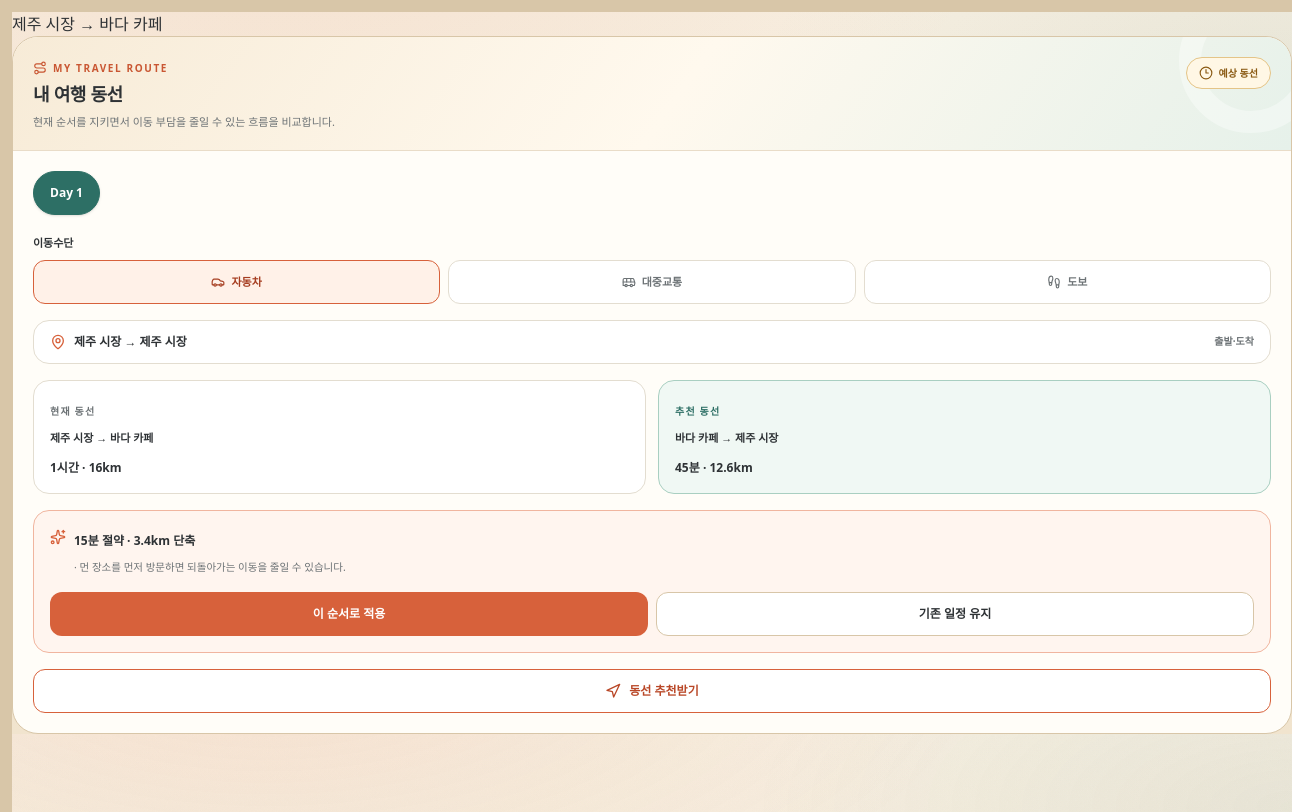
route recommendation and saved plan integration › changes the plan only after approval and can undo it
Expected: the text named "현재 장소 순서" reads "제주 시장 → 바다 카페", [12,13,162,35]
Step 1. Click the button "이 순서로 적용" → (349, 614), box [50,592,648,636]
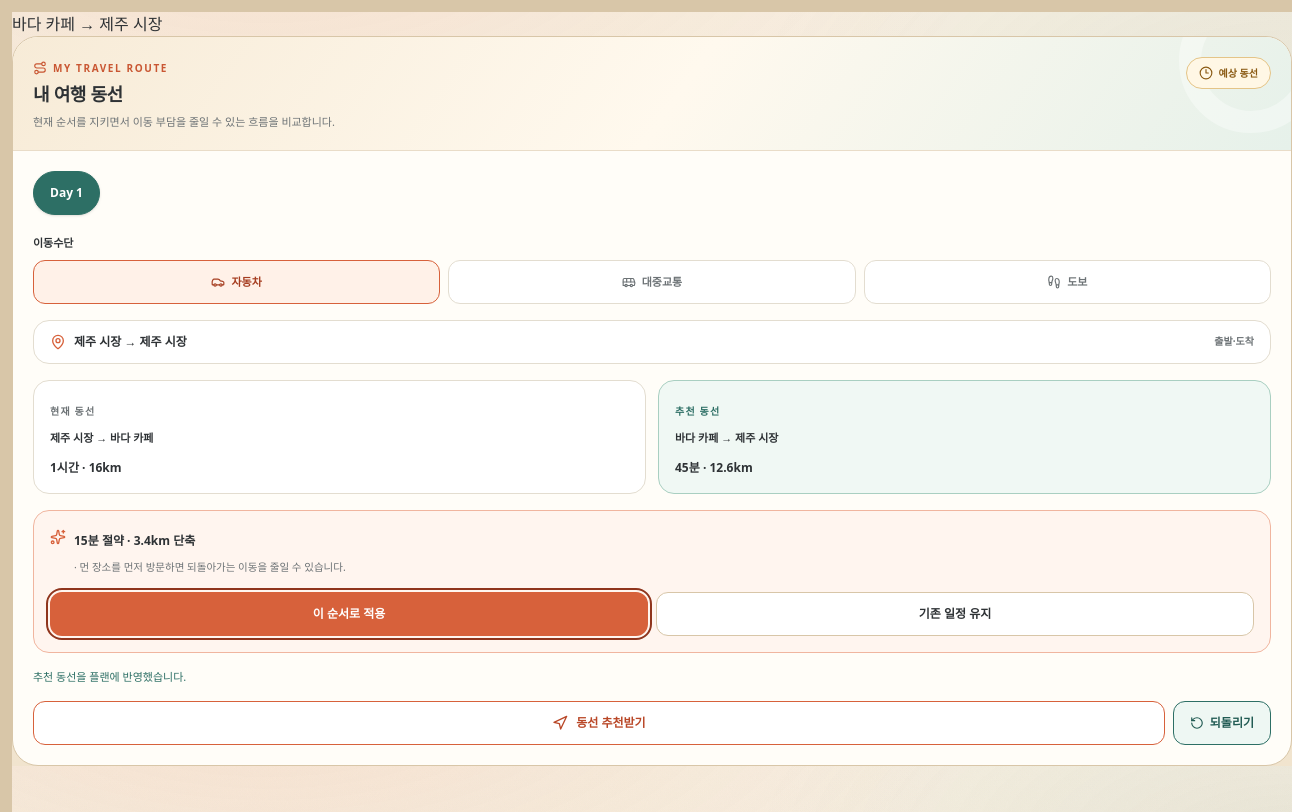
Result: the text named "현재 장소 순서" reads "바다 카페 → 제주 시장" at [12,13,162,35]
Step 2. Click the button "되돌리기" → (1222, 723), box [1173,701,1271,745]
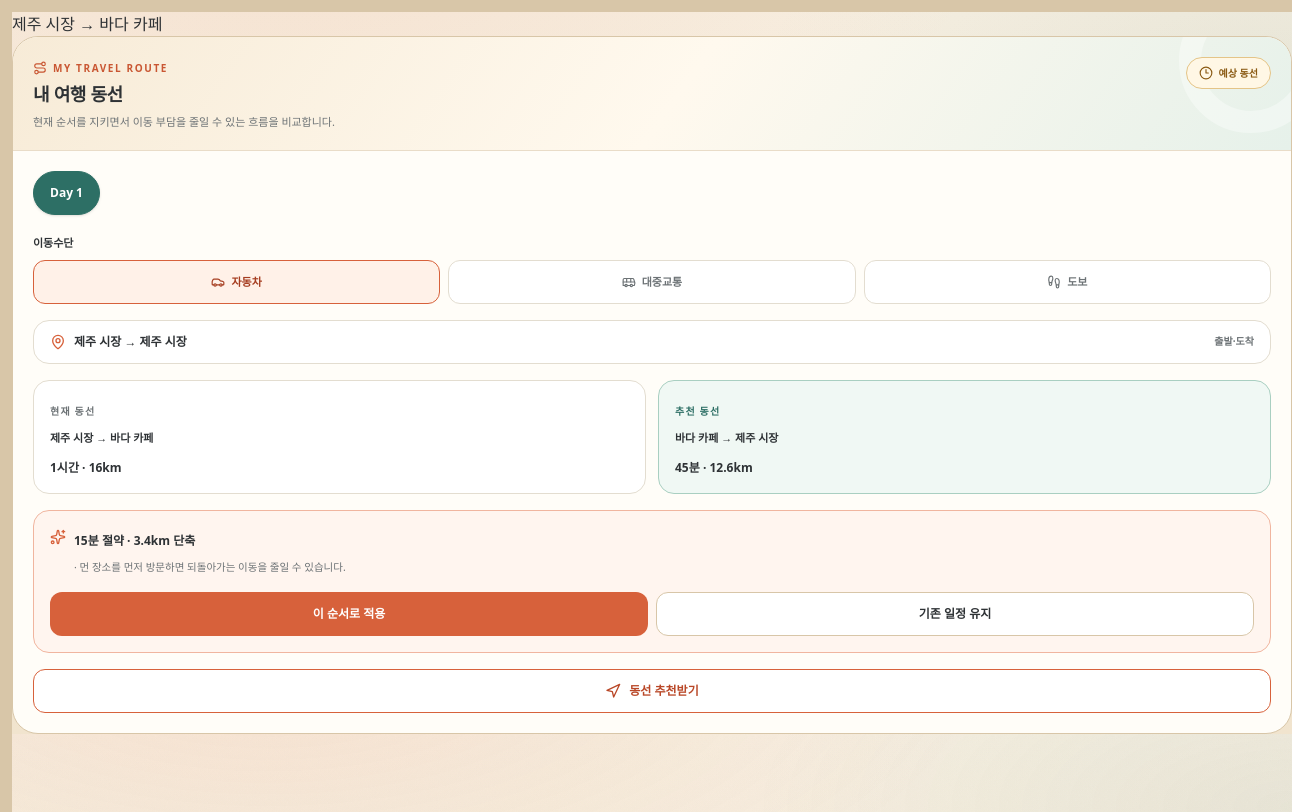
Result: the text named "현재 장소 순서" reads "제주 시장 → 바다 카페" at [12,13,162,35]
